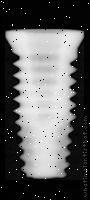Biomet 3i: (5, 27, 89, 181)
